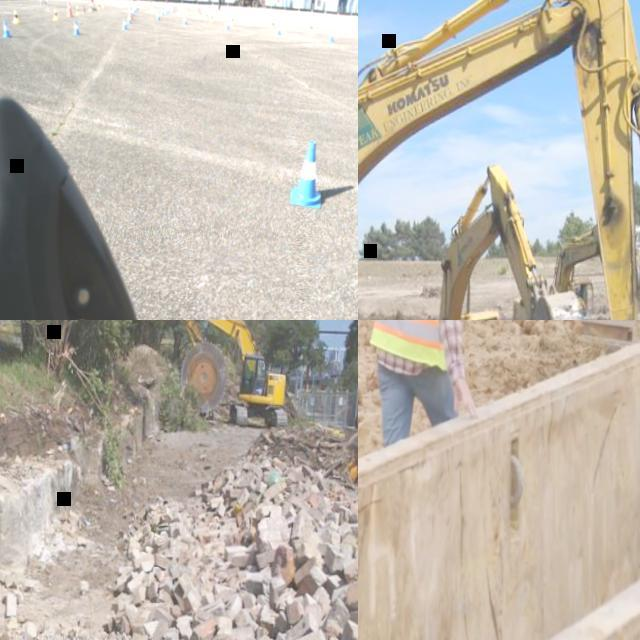machinery: (358, 0, 640, 320), (368, 163, 598, 320), (172, 320, 289, 430)
person: (370, 320, 484, 448)
safety_cone: (290, 140, 321, 208), (2, 20, 12, 38), (72, 20, 81, 35), (66, 0, 74, 16), (12, 10, 20, 23), (121, 18, 127, 30), (275, 24, 281, 36), (52, 8, 58, 20), (328, 29, 333, 42), (126, 14, 132, 24), (129, 6, 133, 20), (224, 19, 229, 29), (269, 20, 274, 30), (182, 15, 186, 25), (76, 6, 80, 16), (308, 22, 312, 32), (156, 12, 160, 21), (96, 3, 100, 10), (88, 4, 91, 12), (205, 12, 208, 20), (161, 7, 164, 15), (210, 15, 213, 22), (165, 7, 168, 14), (102, 2, 105, 8), (199, 11, 202, 17), (230, 17, 232, 25), (132, 8, 134, 16), (156, 10, 158, 18), (194, 8, 197, 13), (168, 7, 170, 13), (172, 7, 174, 13), (173, 7, 175, 13), (175, 6, 177, 12), (187, 6, 189, 12), (134, 6, 136, 12), (136, 4, 138, 10), (198, 8, 198, 12)
